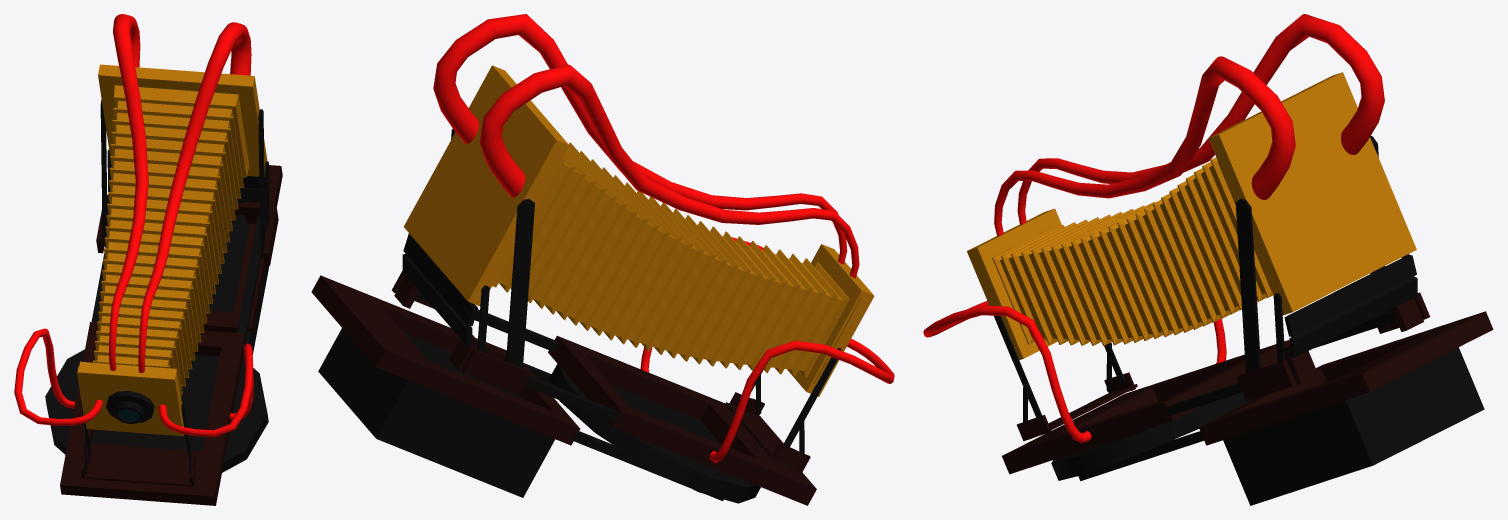
The model's file is SM_camera4.FBX.
3 views of the same model, side by side, from view 1: azimuth 30°, elevation 25°; view 2: azimuth 150°, elevation 25°; view 3: azimuth 270°, elevation 25° (orthographic). The views are drawn at different scales.
Parts seen in each view (by area): view 1: Group004, Box260; view 2: Group004, Box260; view 3: Group004, Box260.
Boxes of the visible parts, x1,y1,x2,y2 form: Group004: (14, 14, 282, 505); Box260: (77, 64, 267, 436); Group004: (311, 14, 894, 505); Box260: (403, 65, 874, 396); Group004: (923, 14, 1493, 505); Box260: (967, 72, 1416, 361).
Size of the model in its own units: 75.16 by 74.55 by 80.76.
